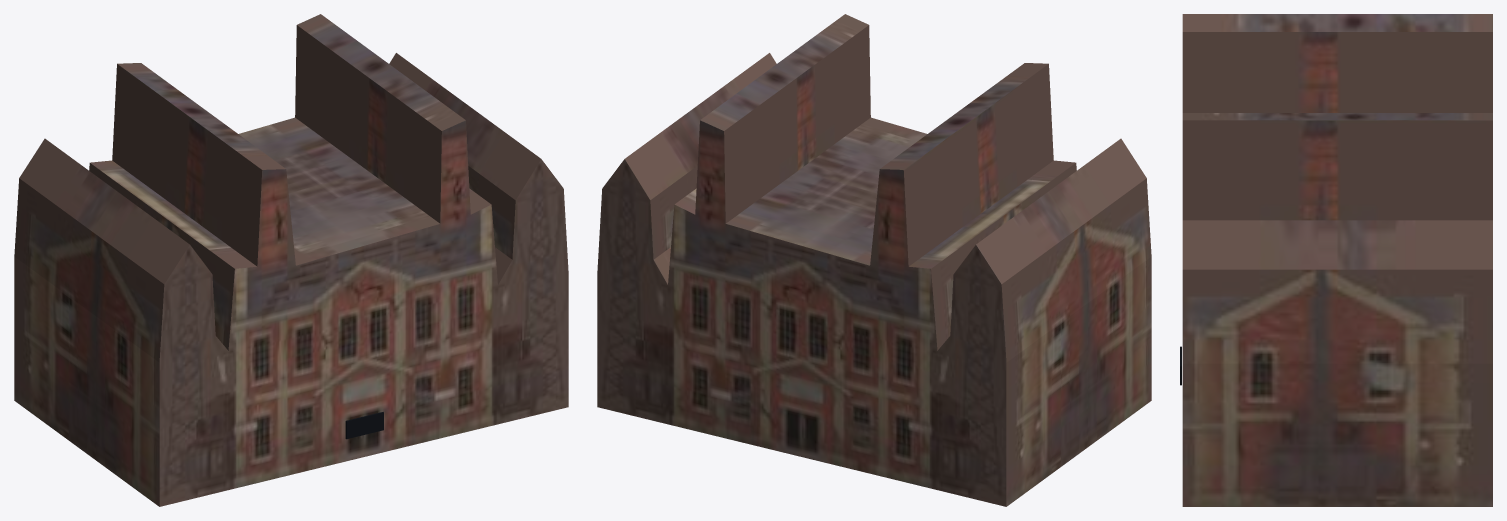
Rendered from bg_industrial_factory_3_lod1.glb.
3 views of the same model, side by side, from view 1: azimuth 30°, elevation 25°; view 2: azimuth 150°, elevation 25°; view 3: azimuth 270°, elevation 25° (orthographic). The views are drawn at different scales.
Parts seen in each view (by area): view 1: body, windows; view 2: body; view 3: body.
Boxes of the visible parts, box(x1,y1,x2,y2) form: body: box(14, 14, 568, 506); windows: box(345, 412, 383, 439); body: box(597, 14, 1151, 506); body: box(1182, 14, 1492, 506).
Bounding box in the file's own units: 12 × 8.74 × 7.44.
2 materials, 1 textured.
